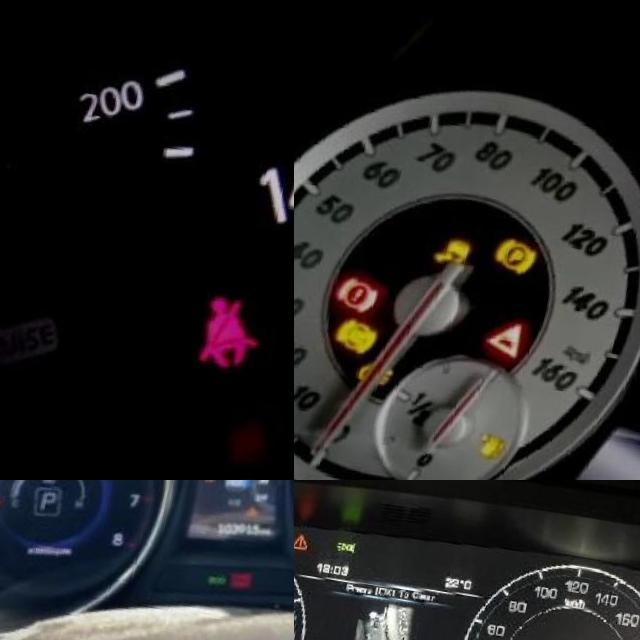Low fuel level: (500, 425, 533, 460)
